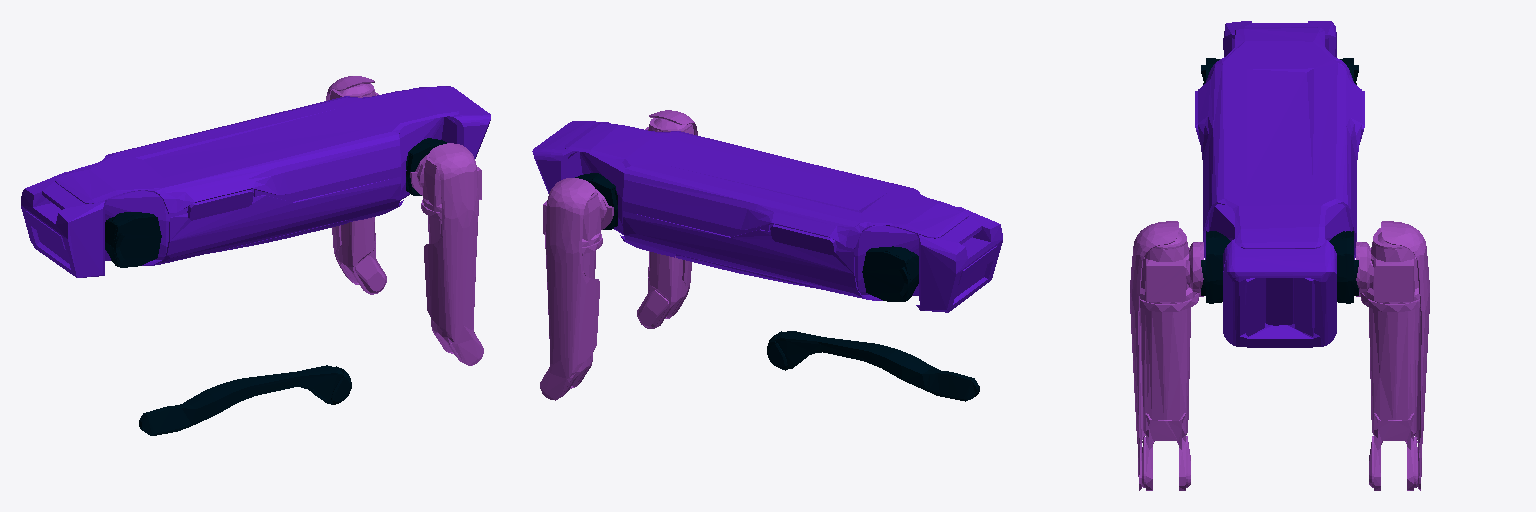
robot.urdf — spot:
<robot name="spot">

  <material name="heliotrope">
    <!-- <color rgba="0.6 0.04 1 1"/> -->
    <color rgba="0.4 0.13 0.8 1"/>
  </material>

  <material name="carnelian">
    <!-- <color rgba="0.75 0.93 0.38 1"/> -->
    <color rgba="0.65 0.33 0.76 1"/>
  </material>

  <material name="yellow">
    <color rgba="1 0.8431 0 1"/>
  </material>

  <material name="gray">
    <color rgba="0.01 0.1 0.15 1"/>
  </material>

  <link name="base">
    <visual>
      <origin xyz="0 0 0" rpy="0 0 0"/>
      <geometry>
        <mesh filename="package://spot_description/meshes/base.stl"/>
      </geometry>
      <material name="heliotrope"/>
    </visual>
  </link>

  <link name="fl.hip">
    <visual>
      <origin xyz="0 0 0" rpy="0 0 0"/>
      <geometry>
        <mesh filename="package://spot_description/meshes/fl.hip.stl"/>
      </geometry>
      <material name="gray"/>
    </visual>
  </link>
  <joint name="fl.hx" type="revolute">
    <origin xyz="0.29785 0.05500 0.00000" rpy="0 0 0"/>
    <axis xyz="1 0 0"/>
    <parent link="base"/>
    <child link="fl.hip"/>
     <limit effort="1000" velocity="1000.00" lower="-0.78539816339744827899" upper="0.78539816339744827899"/>
  </joint>

  <!-- FRONT LEFT UPPER LEG -->
  <link name="fl.uleg">
    <visual>
      <origin xyz="0 0 0" rpy="0 0 0"/>
      <geometry>
        <mesh filename="package://spot_description/meshes/fl.uleg.stl"/>
      </geometry>
      <material name="carnelian"/>
    </visual>
  </link>
  <joint name="fl.hy" type="revolute">
    <origin xyz="0.0 0.11080 0.0" rpy="0 0 0"/>
    <axis xyz="0 1 0"/>
    <parent link="fl.hip"/>
    <child link="fl.uleg"/>
     <limit effort="1000" velocity="1000.00" lower="-0.89884456477707963539" upper="2.2951079663725435509"/>
  </joint>

  <link name="fl.lleg">
    <visual>
      <origin xyz="0 0 0" rpy="0 0 0"/>
      <geometry>
        <mesh filename="package://spot_description/meshes/fl.lleg.stl"/>
      </geometry>
      <material name="gray"/>
    </visual>
  </link>
  <joint name="fl.kn" type="revolute">
    <origin xyz="0.025 0.000 -0.3200" rpy="0 0 0"/>
    <axis xyz="0 1 0"/>
    <parent link="fl.uleg"/>
    <child link="fl.lleg"/>
     <limit effort="1000" velocity="1000.00" lower="-2.7929" upper="-0.254402"/>
  </joint>

  <link name="fr.hip">
    <visual>
      <origin xyz="0 0 0" rpy="0 0 0"/>
      <geometry>
        <mesh filename="package://spot_description/meshes/fr.hip.stl"/>
      </geometry>
      <material name="gray"/>
    </visual>
  </link>
  <joint name="fr.hx" type="revolute">
    <origin xyz="0.29785 -0.05500 0.00000" rpy="0 0 0"/>
    <axis xyz="1 0 0"/>
    <parent link="base"/>
    <child link="fr.hip"/>
     <limit effort="1000" velocity="1000.00" lower="-0.78539816339744827899" upper="0.78539816339744827899"/>
  </joint>

  <!-- FRONT RIGHT UPPER LEG -->
  <link name="fr.uleg">
    <visual>
      <origin xyz="0 0 0" rpy="0 0 0"/>
      <geometry>
        <mesh filename="package://spot_description/meshes/fr.uleg.stl"/>
      </geometry>
      <material name="carnelian"/>
    </visual>
  </link>
  <joint name="fr.hy" type="revolute">
    <origin xyz="0.0 -0.11080 0.0" rpy="0 0 0"/>
    <axis xyz="0 1 0"/>
    <parent link="fr.hip"/>
    <child link="fr.uleg"/>
     <limit effort="1000" velocity="1000.00" lower="-0.898845" upper="2.24363"/>
  </joint>

  <link name="fr.lleg">
    <visual>
      <origin xyz="0 0 0" rpy="0 0 0"/>
      <geometry>
        <mesh filename="package://spot_description/meshes/fr.lleg.stl"/>
      </geometry>
      <material name="gray"/>
    </visual>
  </link>
  <joint name="fr.kn" type="revolute">
    <origin xyz="0.025 0.000 -0.3200" rpy="0 0 0"/>
    <axis xyz="0 1 0"/>
    <parent link="fr.uleg"/>
    <child link="fr.lleg"/>
     <limit effort="1000" velocity="1000.00" lower="-2.7929" upper="-0.255648"/>
  </joint>

  <link name="hl.hip">
    <visual>
      <origin xyz="0 0 0" rpy="0 0 0"/>
      <geometry>
        <mesh filename="package://spot_description/meshes/hl.hip.stl"/>
      </geometry>
      <material name="gray"/>
    </visual>
  </link>
  <joint name="hl.hx" type="revolute">
    <origin xyz="-0.29785 0.05500 0.00000" rpy="0 0 0"/>
    <axis xyz="1 0 0"/>
    <parent link="base"/>
    <child link="hl.hip"/>
     <limit effort="1000" velocity="1000.00" lower="-0.78539816339744827899" upper="0.78539816339744827899"/>
  </joint>

  <!-- HIND LEFT UPPER LEG -->
  <link name="hl.uleg">
    <visual>
      <origin xyz="0 0 0" rpy="0 0 0"/>
      <geometry>
        <mesh filename="package://spot_description/meshes/hl.uleg.stl"/>
      </geometry>
      <material name="carnelian"/>
    </visual>
  </link>
  <joint name="hl.hy" type="revolute">
    <origin xyz="0.0 0.11080 0.0" rpy="0 0 0"/>
    <axis xyz="0 1      0"/>
    <parent link="hl.hip"/>
    <child link="hl.uleg"/>
     <limit effort="1000" velocity="1000.00" lower="-0.89884456477707963539" upper="2.2951079663725435509"/>
  </joint>

  <link name="hl.lleg">
    <visual>
      <origin xyz="0 0 0" rpy="0 0 0"/>
      <geometry>
        <mesh filename="package://spot_description/meshes/hl.lleg.stl"/>
      </geometry>
      <material name="gray"/>
    </visual>
  </link>
  <joint name="hl.kn" type="revolute">
    <origin xyz="0.025 0.000 -0.3200" rpy="0 0 0"/>
    <axis xyz="0 1 0"/>
    <parent link="hl.uleg"/>
    <child link="hl.lleg"/>
     <limit effort="1000" velocity="1000.00" lower="-2.7929" upper="-0.247067"/>
  </joint>

  <link name="hr.hip">
    <visual>
      <origin xyz="0 0 0" rpy="0 0 0"/>
      <geometry>
        <mesh filename="package://spot_description/meshes/hr.hip.stl"/>
      </geometry>
      <material name="gray"/>
    </visual>
  </link>
  <joint name="hr.hx" type="revolute">
    <origin xyz="-0.29785 -0.05500 0.00000" rpy="0 0 0"/>
    <axis xyz="1 0 0"/>
    <parent link="base"/>
    <child link="hr.hip"/>
     <limit effort="1000" velocity="1000.00" lower="-0.78539816339744827899" upper="0.78539816339744827899"/>
  </joint>

  <!-- HIND RIGHT UPPER LEG -->
  <link name="hr.uleg">
    <visual>
      <origin xyz="0 0 0" rpy="0 0 0"/>
      <geometry>
        <mesh filename="package://spot_description/meshes/hr.uleg.stl"/>
      </geometry>
      <material name="carnelian"/>
    </visual>
  </link>
  <joint name="hr.hy" type="revolute">
    <origin xyz="0.0 -0.11080 0.0" rpy="0 0 0"/>
    <axis xyz="0  1      0"/>
    <parent link="hr.hip"/>
    <child link="hr.uleg"/>
     <limit effort="1000" velocity="1000.00" lower="-0.89884456477707963539" upper="2.2951079663725435509"/>
  </joint>

  <link name="hr.lleg">
    <visual>
      <origin xyz="0 0 0" rpy="0 0 0"/>
      <geometry>
        <mesh filename="package://spot_description/meshes/hr.lleg.stl"/>
      </geometry>
      <material name="gray"/>
    </visual>
  </link>
  <joint name="hr.kn" type="revolute">
    <origin xyz="0.025 0.000 -0.3200" rpy="0 0 0"/>
    <axis xyz="0 1 0"/>
    <parent link="hr.uleg"/>
    <child link="hr.lleg"/>
     <limit effort="1000" velocity="1000.00" lower="-2.7929" upper="-0.248282"/>
  </joint>
</robot>

--- Render facts (derived) ---
Views: 3 orthographic renders of the robot side by side, from view 1: azimuth 30°, elevation 25°; view 2: azimuth 150°, elevation 25°; view 3: azimuth 270°, elevation 25°.
Robot: spot — 13 links, 12 joints (12 revolute); root link base; default pose: joints at zero except 4 at the middle of their limits (fl.kn = -1.52, fr.kn = -1.52, hl.kn = -1.52, hr.kn = -1.52).
Links seen in each view (by area): view 1: base, fr.uleg, hr.lleg, fl.uleg, hr.hip, fr.hip; view 2: base, fl.uleg, hr.lleg, fr.uleg, hl.hip, fl.hip; view 3: base, fl.uleg, fr.uleg, fl.hip, fr.hip.
Boxes of the visible links, x1,y1,x2,y2 form: base: (21,86,490,277); fr.uleg: (410,143,483,365); hr.lleg: (139,365,351,435); fl.uleg: (326,76,386,294); hr.hip: (105,212,161,267); fr.hip: (406,138,446,195); base: (532,121,1002,312); fl.uleg: (540,178,613,400); hr.lleg: (767,331,979,401); fr.uleg: (637,110,697,328); hl.hip: (862,246,918,301); fl.hip: (575,173,617,229); base: (1195,21,1364,347); fl.uleg: (1356,221,1429,490); fr.uleg: (1130,221,1203,490); fl.hip: (1329,231,1358,303); fr.hip: (1201,231,1230,303).
Bounding box of the posed robot: 0.8673 × 0.4357 × 0.451 m (x, y, z).
Meshes: 13 distinct files referenced, 8 mesh visuals loaded (8 ASCII STL); not drawn: 5 (reference not matched to a file when rendering).
